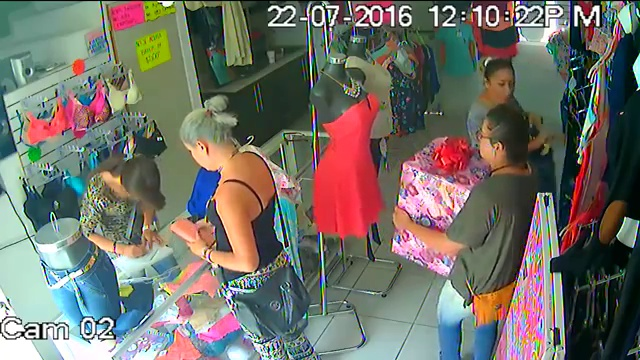face: (473, 124, 506, 165), (487, 67, 518, 110)
